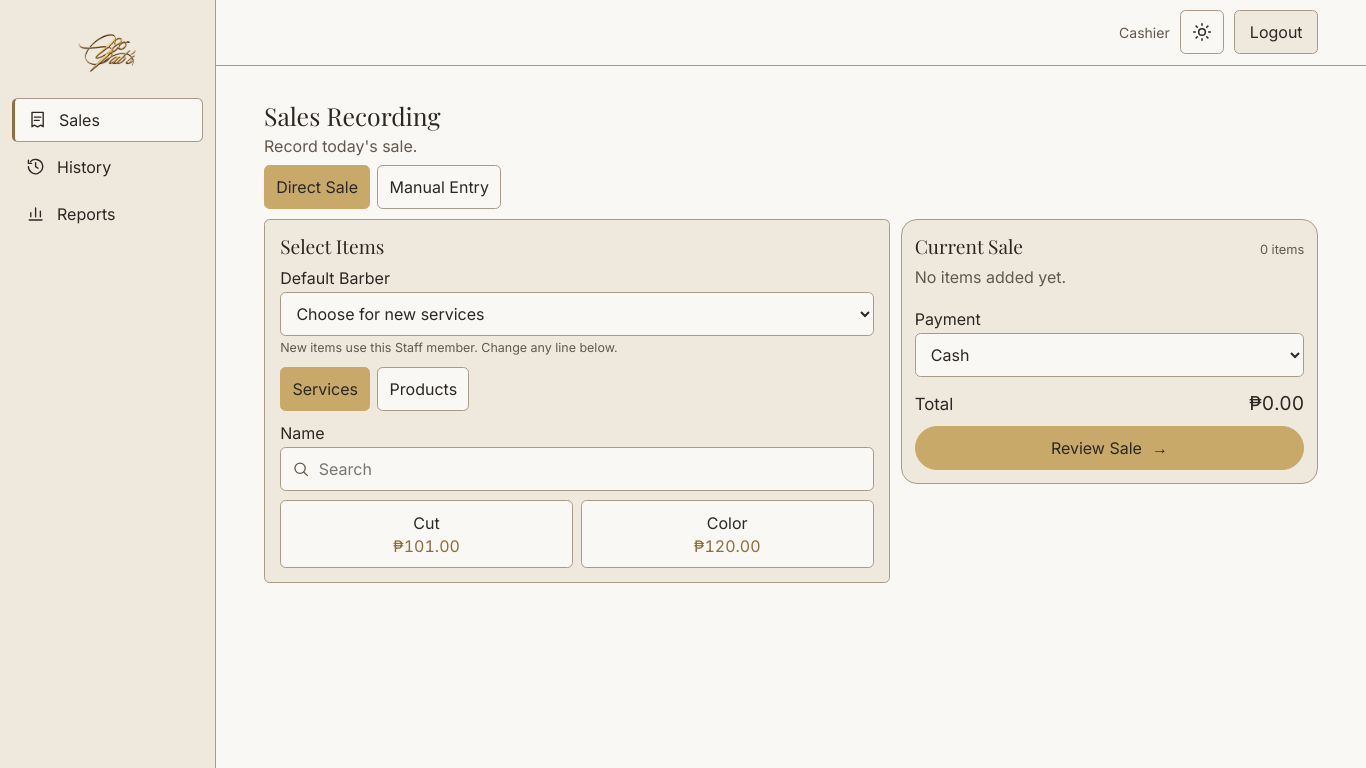
Test: blocks a protocol change before allocating a UUID or posting either sale type
The width and height of the screenshot is (1366, 768).
Check: the heading "Sales Recording" is shown, box top-left (264, 99), bottom-right (440, 132)
Check: the text "No items added yet." is shown, box top-left (915, 267), bottom-right (1066, 287)
Click the button "Products": {"x": 423, "y": 389} top-left (377, 367), bottom-right (469, 411)
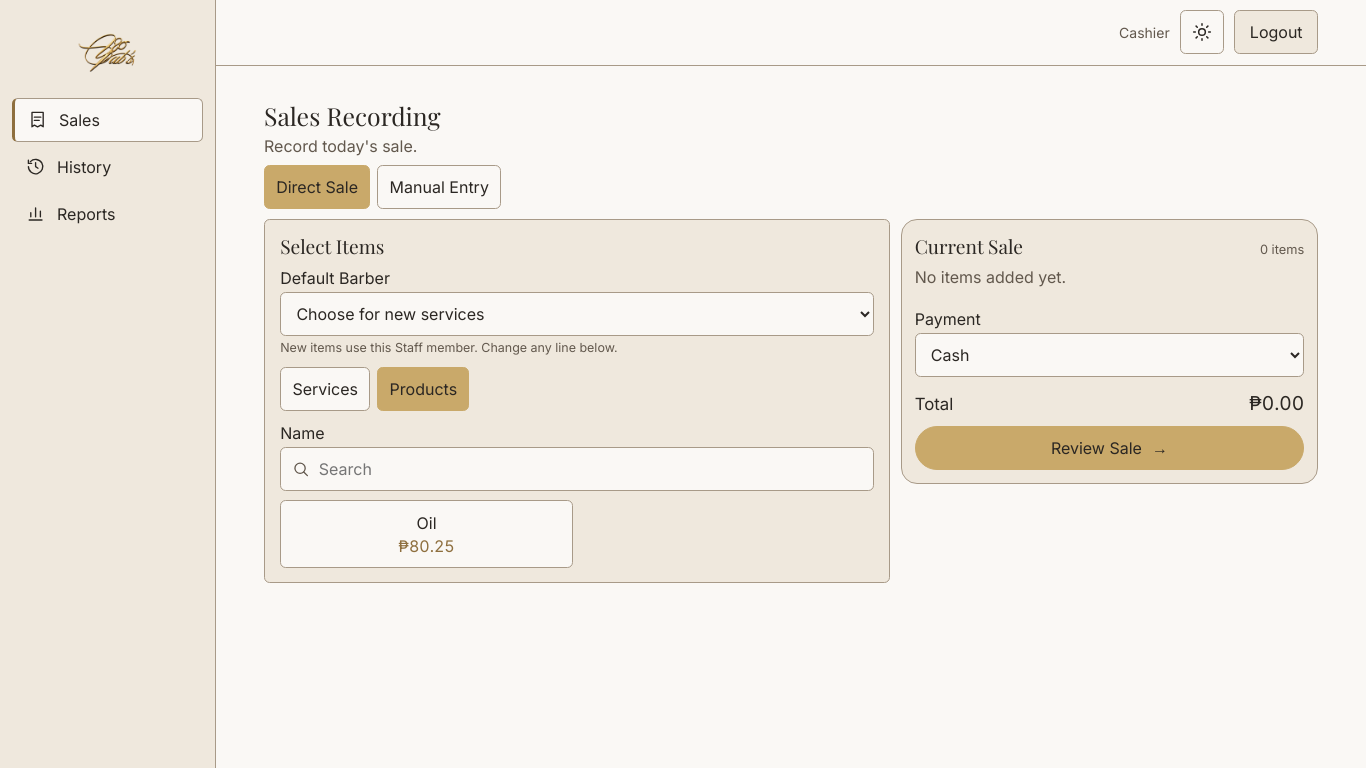
Click the button "Oil ₱80.25": {"x": 427, "y": 534} top-left (280, 500), bottom-right (573, 568)
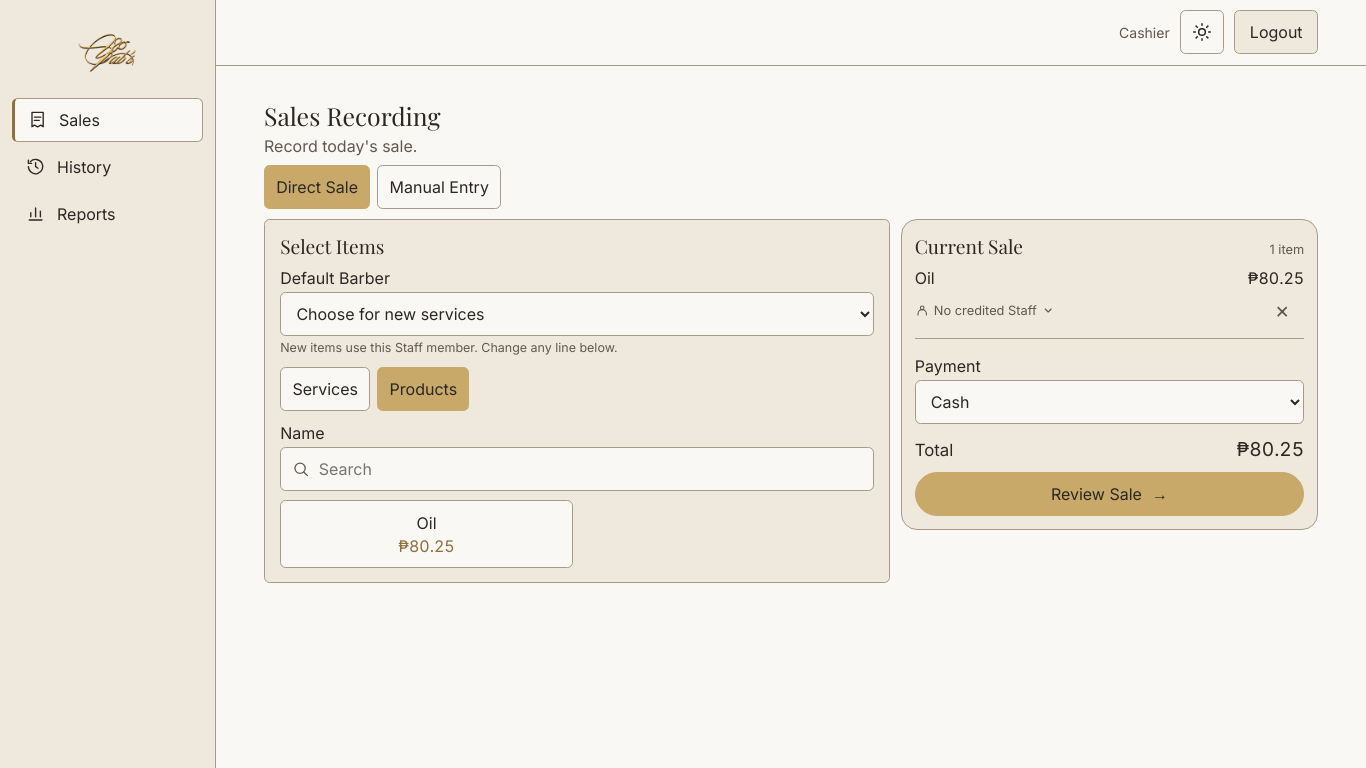
Click the button "Review Sale →": {"x": 1109, "y": 494} top-left (915, 472), bottom-right (1304, 516)
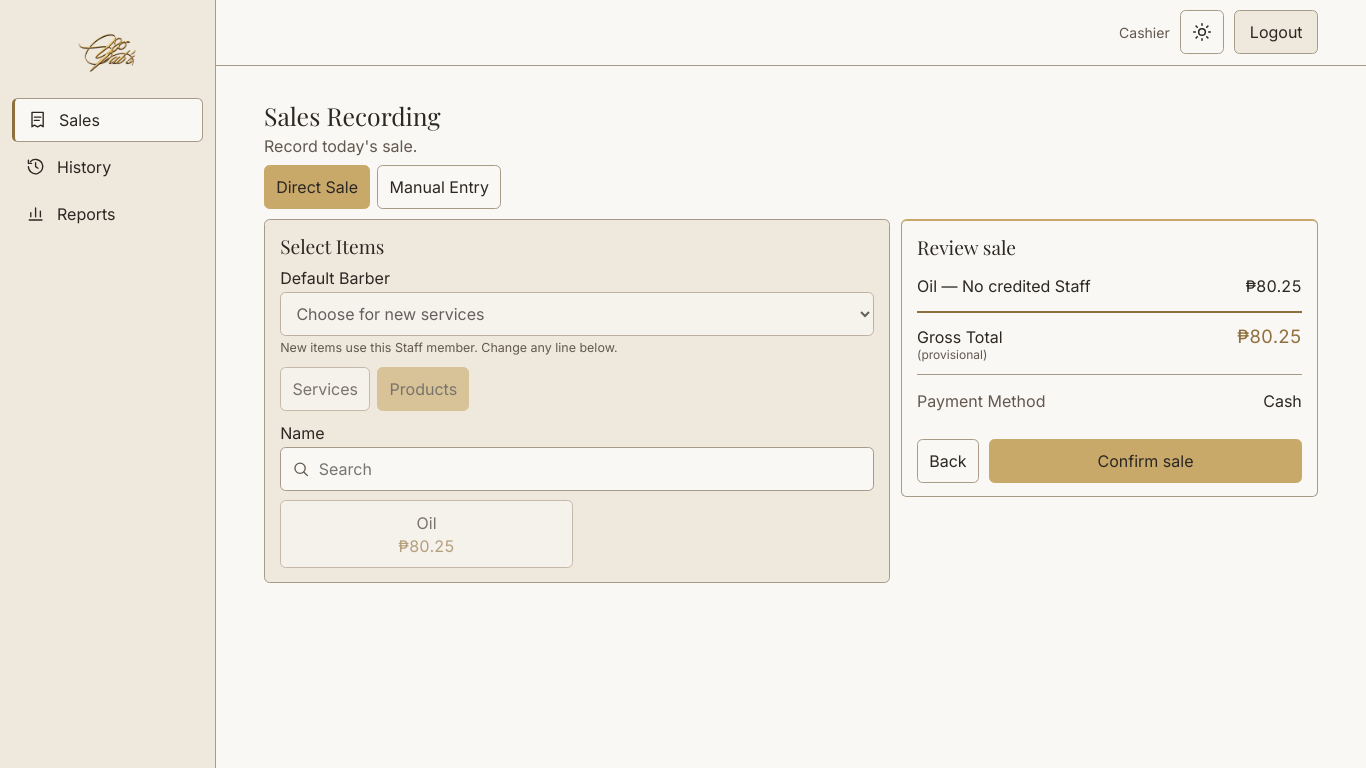
Click the button "Confirm sale": {"x": 1146, "y": 461} top-left (989, 439), bottom-right (1302, 483)
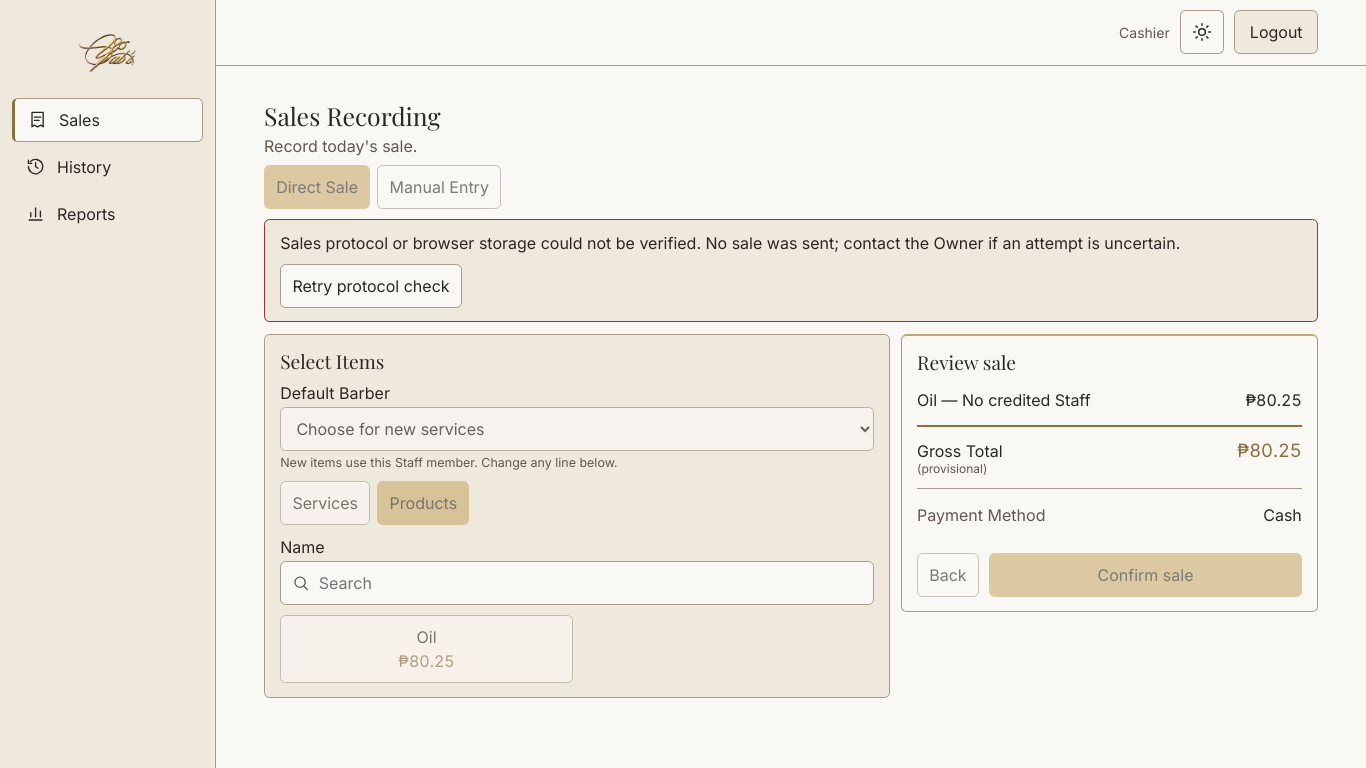
Check: the text "Sales protocol or browser storage could not be verified" is shown, box top-left (280, 233), bottom-right (1180, 253)
